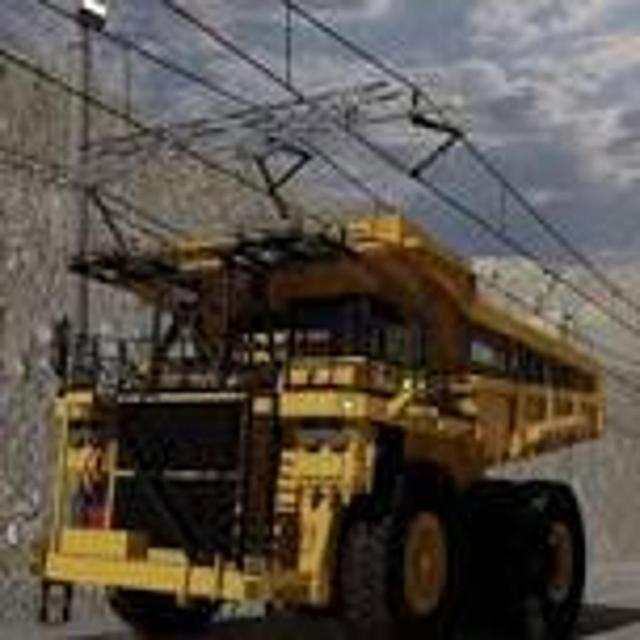dump_truck: (30, 221, 605, 640)
